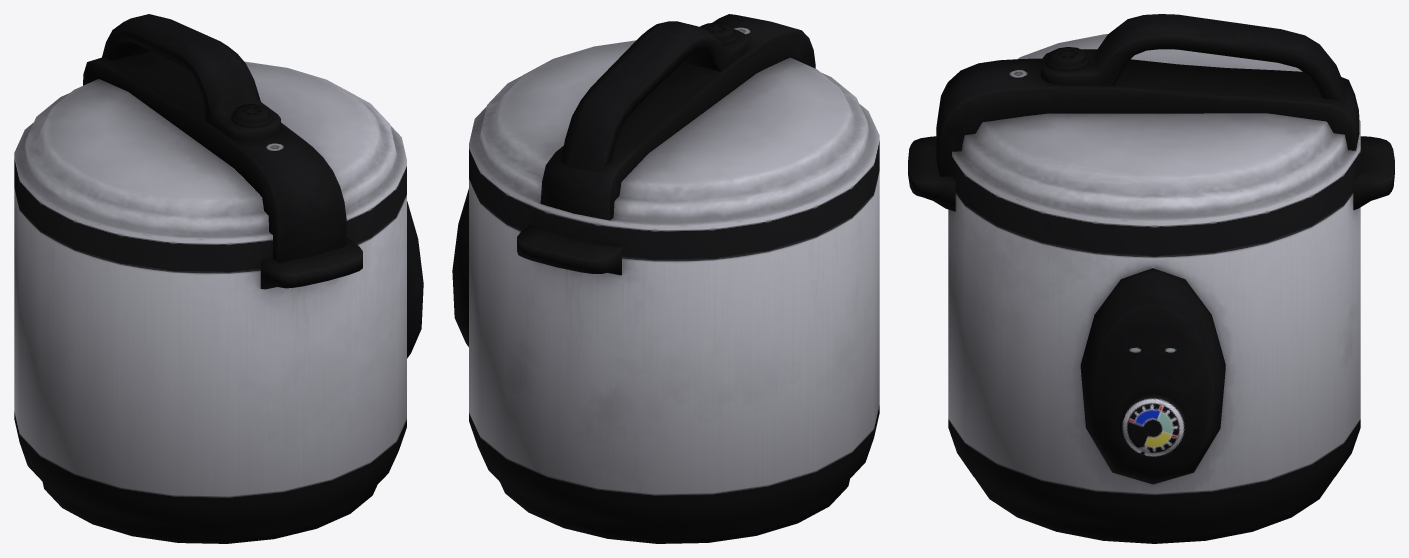
File: electric_cooker.FBX
3 views of the same model, side by side, from view 1: azimuth 30°, elevation 25°; view 2: azimuth 150°, elevation 25°; view 3: azimuth 270°, elevation 25° (orthographic). The views are drawn at different scales.
Visible parts, largest first — view 1: Electric_Co; view 2: Electric_Co; view 3: Electric_Co.
Part boxes in pixels (bbox=[...]): Electric_Co: bbox=[14, 14, 423, 543]; Electric_Co: bbox=[452, 14, 879, 543]; Electric_Co: bbox=[908, 14, 1394, 543].
Size of the model in its own units: 0.3857 by 0.4247 by 0.4184.
